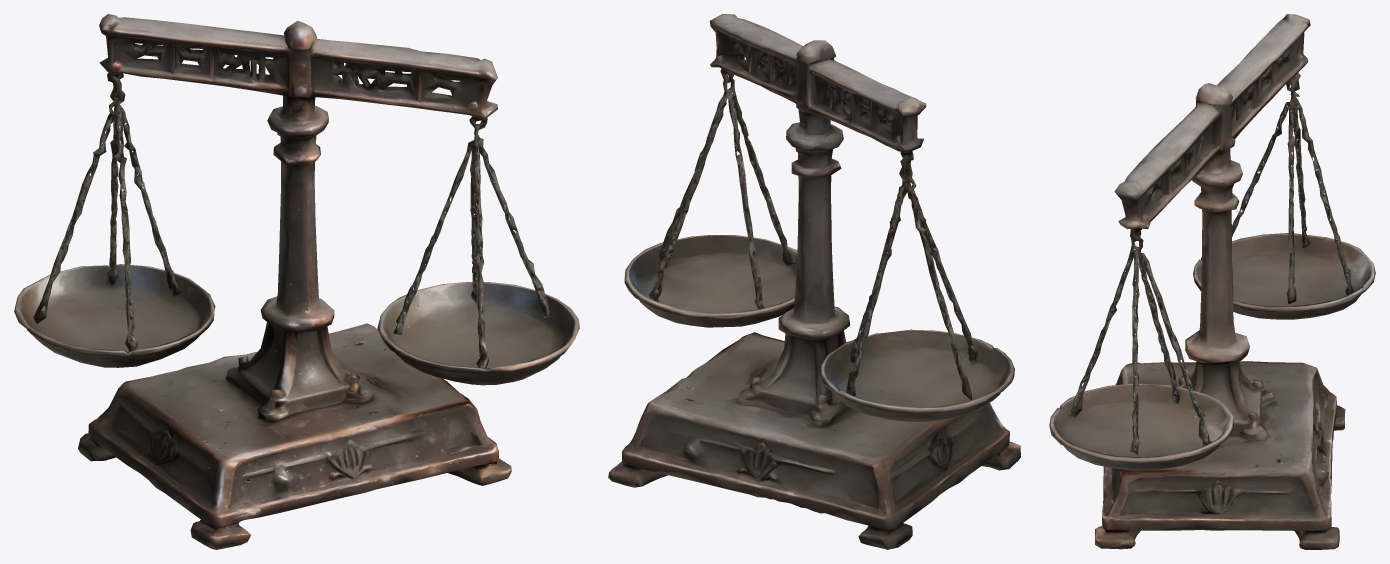
The model's file is balance+scale+3d+model.glb.
3 renders of one model, left to right at view 1: azimuth 30°, elevation 25°; view 2: azimuth 150°, elevation 25°; view 3: azimuth 270°, elevation 25°, orthographic. The views are drawn at different scales.
Visible parts, largest first — view 1: tripo_node_783f67ab-0b5c-4b92-9b3e-fb53216f5aaf; view 2: tripo_node_783f67ab-0b5c-4b92-9b3e-fb53216f5aaf; view 3: tripo_node_783f67ab-0b5c-4b92-9b3e-fb53216f5aaf.
Boxes of the visible parts, x1,y1,x2,y2 form: tripo_node_783f67ab-0b5c-4b92-9b3e-fb53216f5aaf: [14, 14, 579, 549]; tripo_node_783f67ab-0b5c-4b92-9b3e-fb53216f5aaf: [608, 14, 1020, 549]; tripo_node_783f67ab-0b5c-4b92-9b3e-fb53216f5aaf: [1049, 14, 1375, 549].
Bounding box in the file's own units: 1 × 0.9395 × 0.6833.
1 material, 1 textured.
